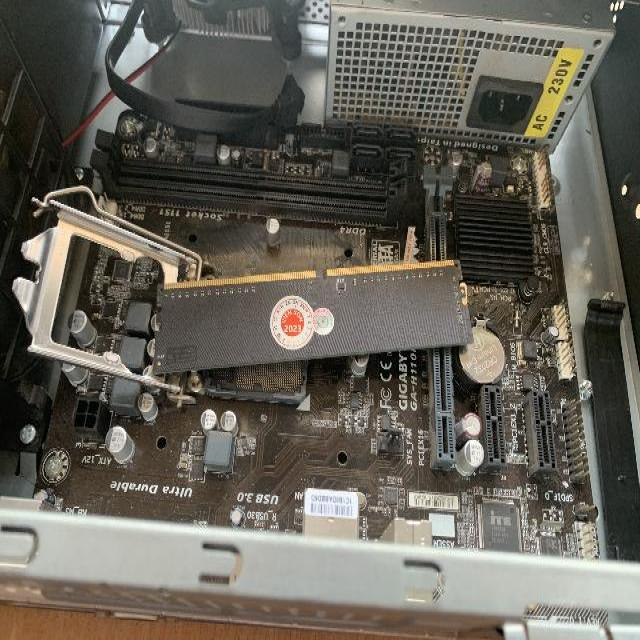Mainboard: (36, 135, 630, 562)
PSU: (319, 2, 625, 165)
RAM: (153, 256, 473, 372)
